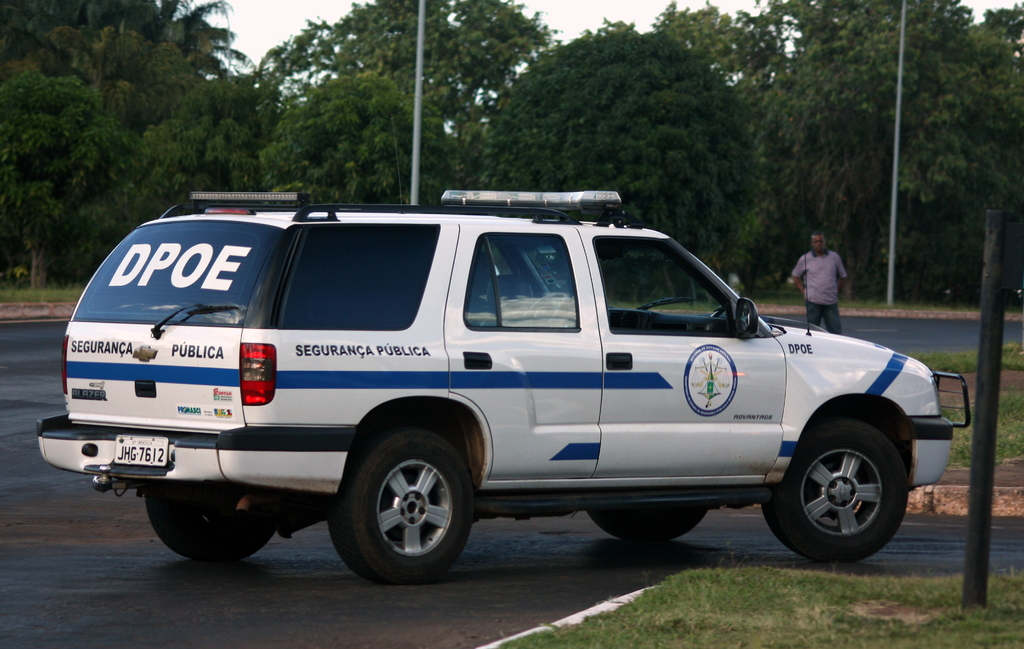Car: (38, 114, 972, 587)
